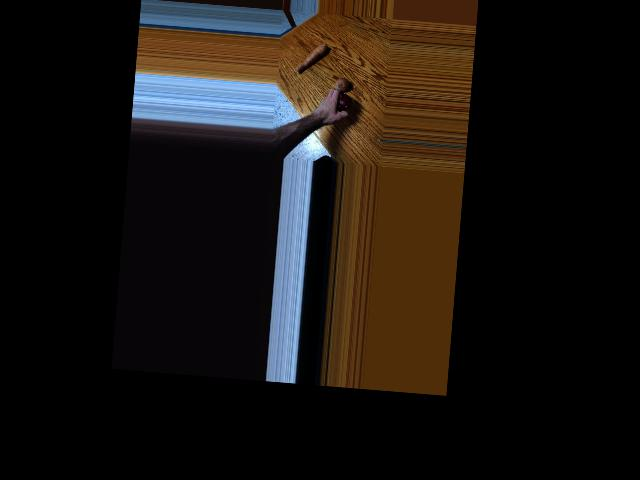onion: (333, 76, 351, 92)
